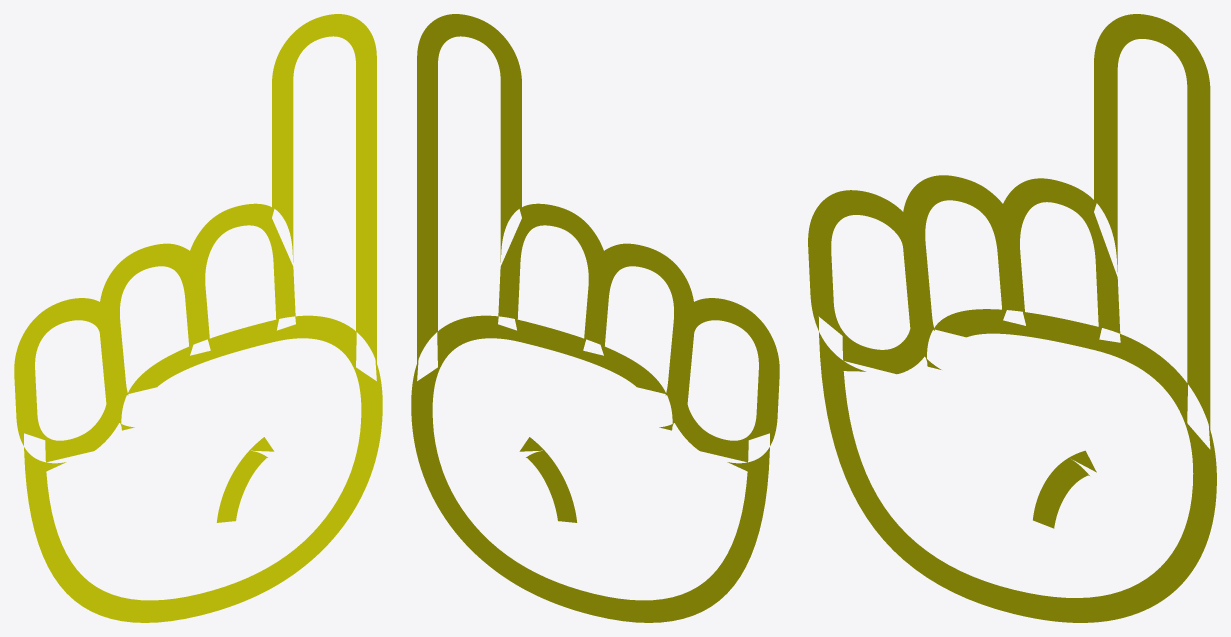
The picture shows the model from 3 angles, left to right: view 1: azimuth 30°, elevation 25°; view 2: azimuth 150°, elevation 25°; view 3: azimuth 330°, elevation 25°; orthographic projection. The views are drawn at different scales.
Visible parts, largest first — view 1: Text.745_745; view 2: Text.745_745; view 3: Text.745_745.
Boxes of the visible parts, <box> form: Text.745_745: <box>14,14,382,622</box>; Text.745_745: <box>411,14,779,622</box>; Text.745_745: <box>808,14,1216,622</box>.
Size of the model in its own units: 0.6881 by 1.02 by 3.6e-06.
